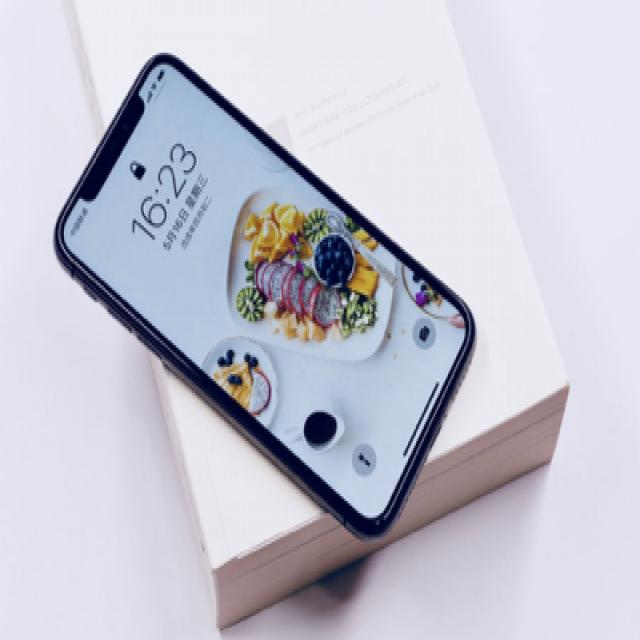cellphone: (51, 48, 477, 542)
